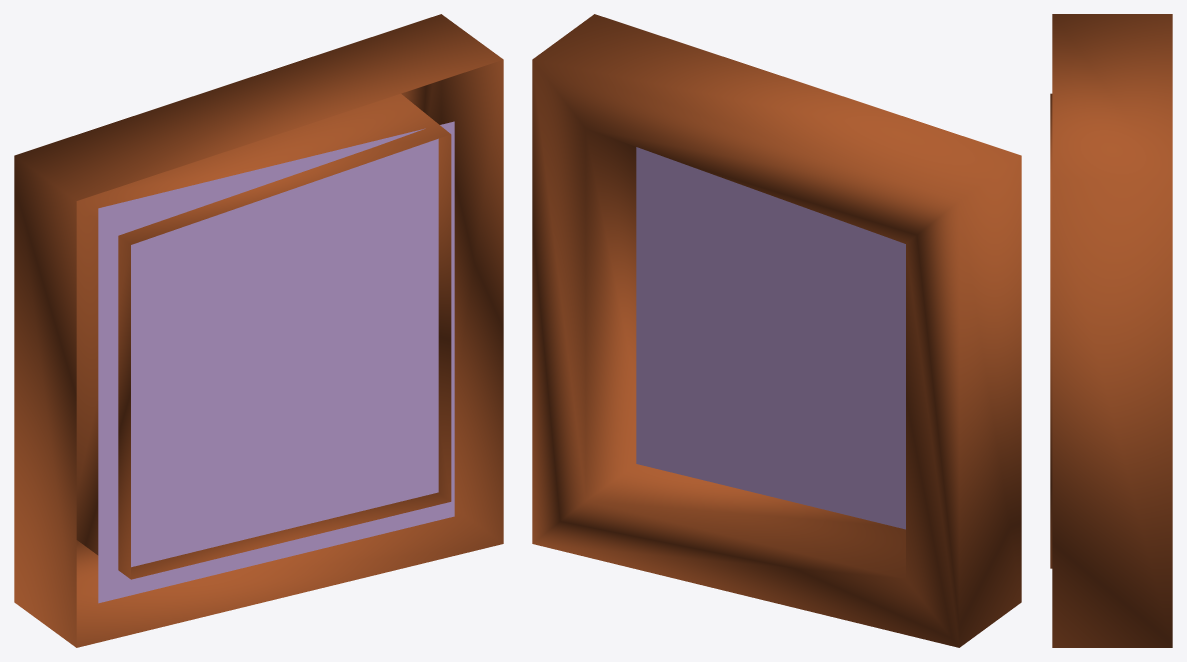
File: props_wall_painting_frame_5.fbx
3 renders of one model, left to right at view 1: azimuth 30°, elevation 25°; view 2: azimuth 150°, elevation 25°; view 3: azimuth 270°, elevation 25°, orthographic. The views are drawn at different scales.
Visible parts, largest first — view 1: Cube.105, Cube.001; view 2: Cube.105, Cube.001; view 3: Cube.105.
Part boxes in pixels (left/top/right/bottom): Cube.105: left=14, top=14, right=503, bottom=647; Cube.001: left=98, top=121, right=454, bottom=603; Cube.105: left=532, top=14, right=1021, bottom=647; Cube.001: left=636, top=147, right=905, bottom=529; Cube.105: left=1050, top=14, right=1172, bottom=647.
Bounding box in the file's own units: 0.7228 × 0.1857 × 0.7832.
